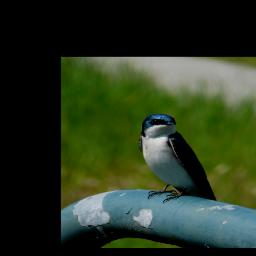Swallow: (136, 112, 216, 204)
